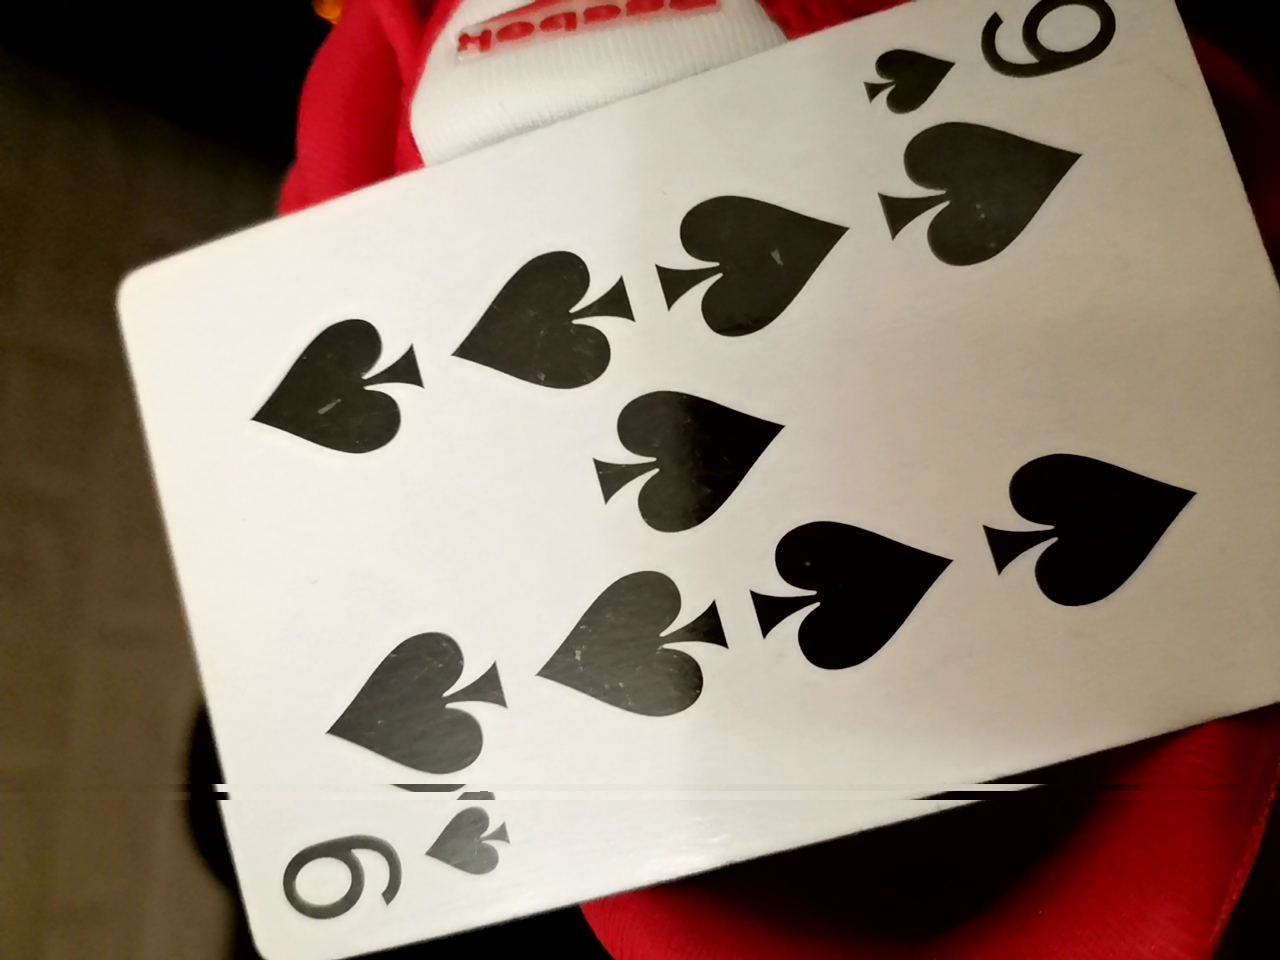ht 9: (88, 12, 1263, 943)
